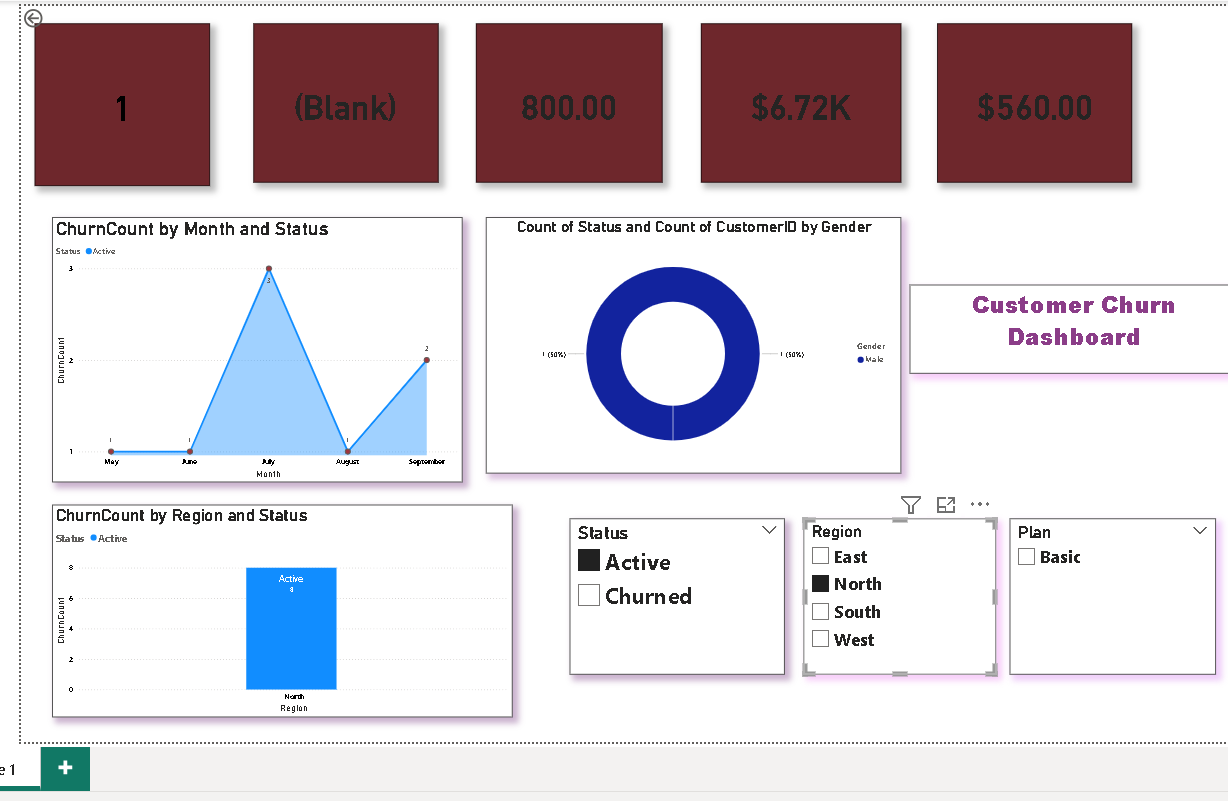

The page's visual inventory and layout, read from the dashboard file:
{"tool":"powerbi","page":{"name":"Page 1","canvas":[2000,1200],"ordinal":0},"visuals":[{"type":"card","fields":{"Values":["Count(Sheet1.CustomerID)"]},"box":[22.4,28.5,285.3,264.9],"z":0},{"type":"card","fields":{"Values":["Count(Sheet1.CustomerID)"]},"box":[379.1,28.5,301.6,258.8],"z":1000},{"type":"actionButton","box":[0,0,100,40],"z":2000},{"type":"card","fields":{"Values":["Sheet1.ChurnRate"]},"box":[741.9,28.5,303.7,258.8],"z":3000},{"type":"card","fields":{"Values":["Sheet1.TotalMonthlyRevenue"]},"box":[1493.9,28.5,317.9,258.8],"z":4000},{"type":"card","fields":{"Values":["Sheet1.RevenueLost"]},"box":[1108.7,28.5,326.1,258.8],"z":5000},{"type":"lineChart","fields":{"Category":["Sheet1.ChurnDate.Variation.Date Hierarchy.Month"],"Y":["Sheet1.ChurnCount"],"Series":["Sheet1.Status"]},"box":[51,344.4,668.5,432.1],"z":6000},{"type":"columnChart","fields":{"Category":["Sheet1.Region"],"Y":["Sheet1.ChurnCount"],"Series":["Sheet1.Status"]},"box":[51,813.2,750,346.5],"z":7000},{"type":"donutChart","fields":{"Category":["Sheet1.Gender"],"Y":["CountNonNull(Sheet1.Status)","CountNonNull(Sheet1.CustomerID)"]},"box":[758.2,344.4,676.6,417.8],"z":8000},{"type":"slicer","fields":{"Values":["Sheet1.Plan"]},"box":[1612.1,835.6,336.3,254.8],"z":9000},{"type":"slicer","fields":{"Values":["Sheet1.Region"]},"box":[1275.8,835.6,313.9,254.8],"z":10000},{"type":"slicer","fields":{"Values":["Sheet1.Status"]},"box":[894.7,835.6,350.5,254.8],"z":11000},{"type":"textbox","box":[1449.1,454.5,536,144.7],"z":11001}]}

Visuals, with their boxes in screenshot pixels (x1, y1, x2, y2):
card - Count(Sheet1.CustomerID): [39, 24, 212, 184]
card - Count(Sheet1.CustomerID): [255, 24, 438, 180]
actionButton: [26, 6, 86, 31]
card - Sheet1.ChurnRate: [475, 24, 659, 180]
card - Sheet1.TotalMonthlyRevenue: [930, 24, 1123, 180]
card - Sheet1.RevenueLost: [697, 24, 894, 180]
lineChart - Sheet1.ChurnDate.Variation.Date Hierarchy.Month x Sheet1.ChurnCount: [56, 215, 461, 477]
columnChart - Sheet1.Region x Sheet1.ChurnCount: [56, 499, 511, 709]
donutChart - Sheet1.Gender x CountNonNull(Sheet1.Status): [485, 215, 894, 468]
slicer - Sheet1.Plan: [1002, 512, 1205, 667]
slicer - Sheet1.Region: [798, 512, 988, 667]
slicer - Sheet1.Status: [567, 512, 780, 667]
textbox: [903, 282, 1227, 369]
